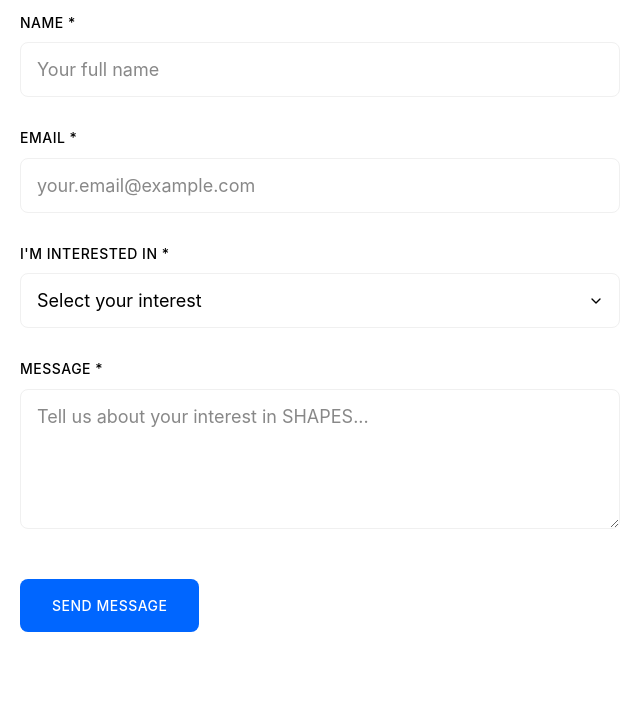
ContactForm › maintains form state during validation
# Fill out partial form
Step 1. Type "John Doe" into the field labelled "Name *" → (320, 70), box [20, 42, 620, 97]
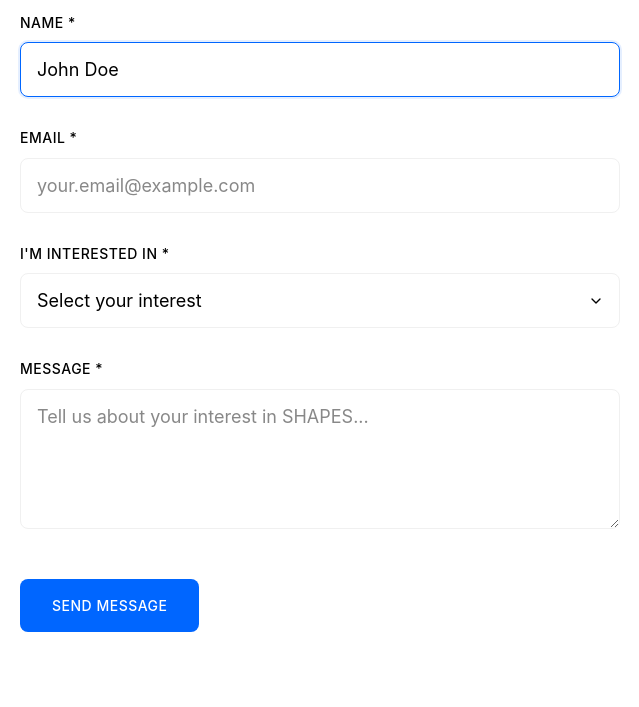
Step 2. Type "john@example.com" into the field labelled "Email *" → (320, 185), box [20, 158, 620, 213]
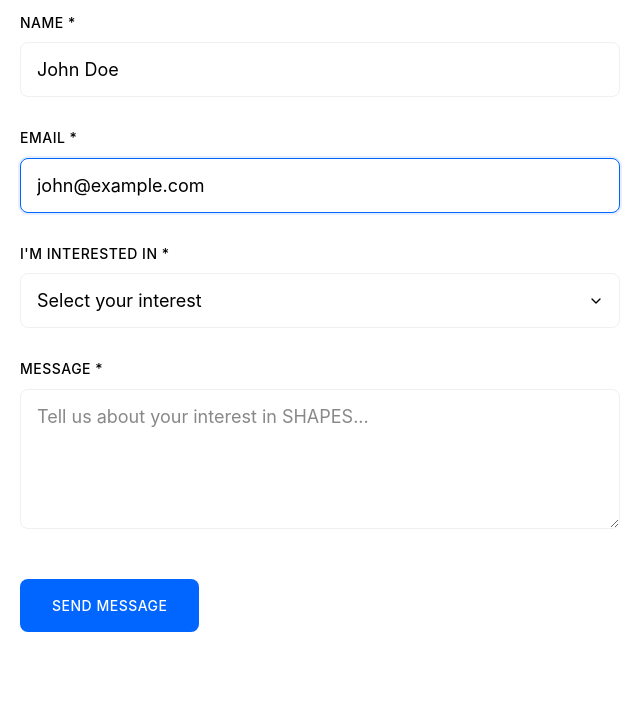
Step 3. Click the button "Send Message" → (110, 605), box [20, 579, 200, 632]
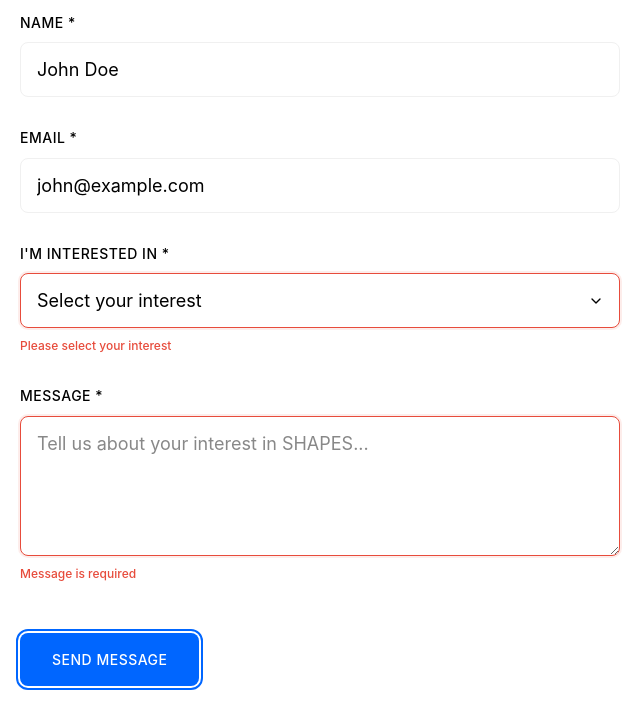
Now the text "Please select your interest" is shown, box [20, 338, 172, 353]
Now the text "Message is required" is shown, box [20, 566, 136, 581]
